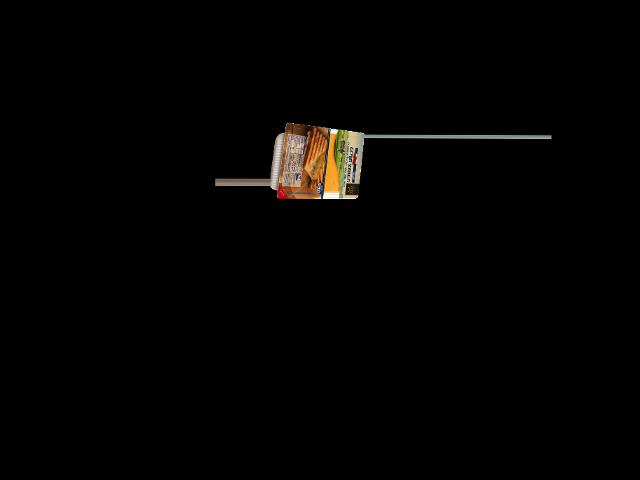cheese: (269, 124, 363, 196)
